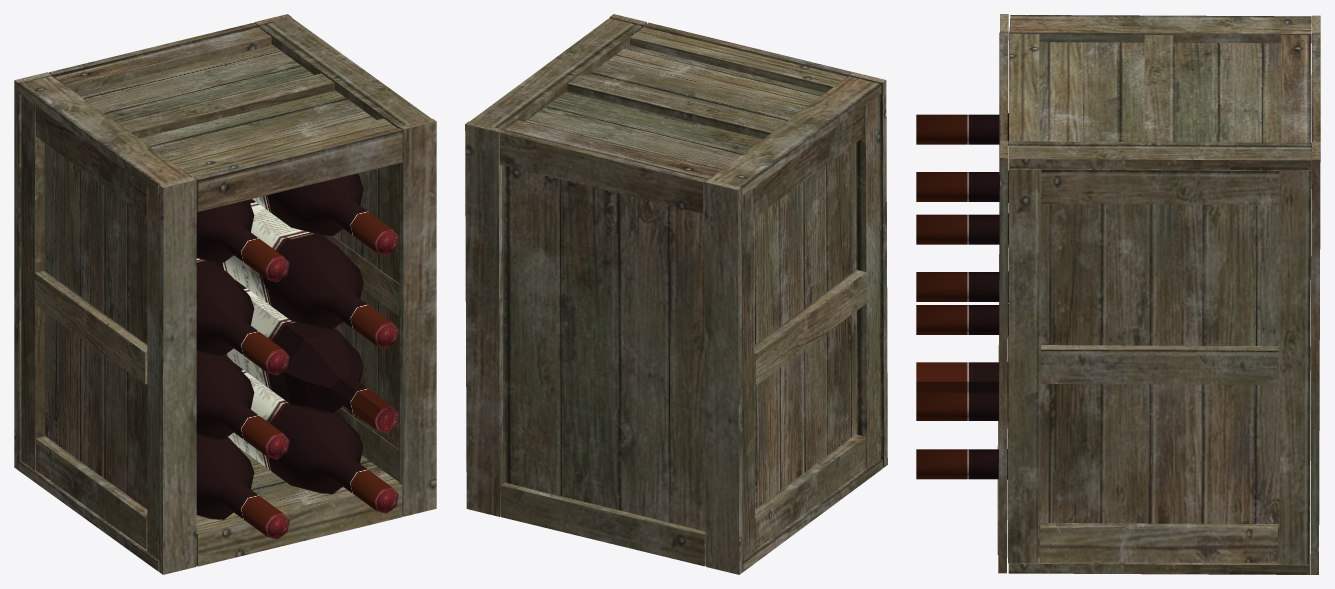
File: prop_wine_crate.glb
The picture shows the model from 3 angles, left to right: view 1: azimuth 30°, elevation 25°; view 2: azimuth 150°, elevation 25°; view 3: azimuth 270°, elevation 25°; orthographic projection. The views are drawn at different scales.
Size of the model in its own units: 17.76 by 24.02 by 21.07.
Materials: 2 (2 with a texture image).
